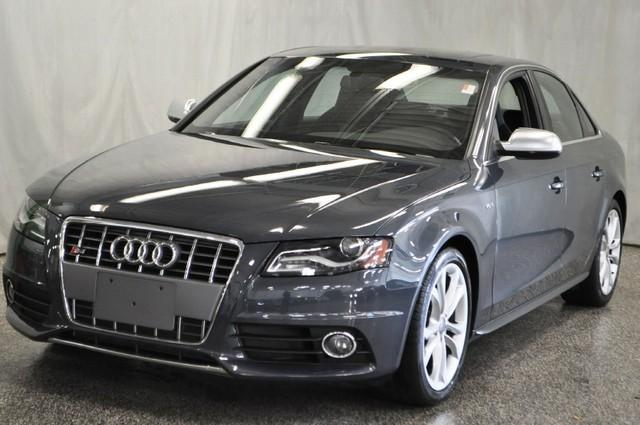Audi: (103, 226, 185, 274)
